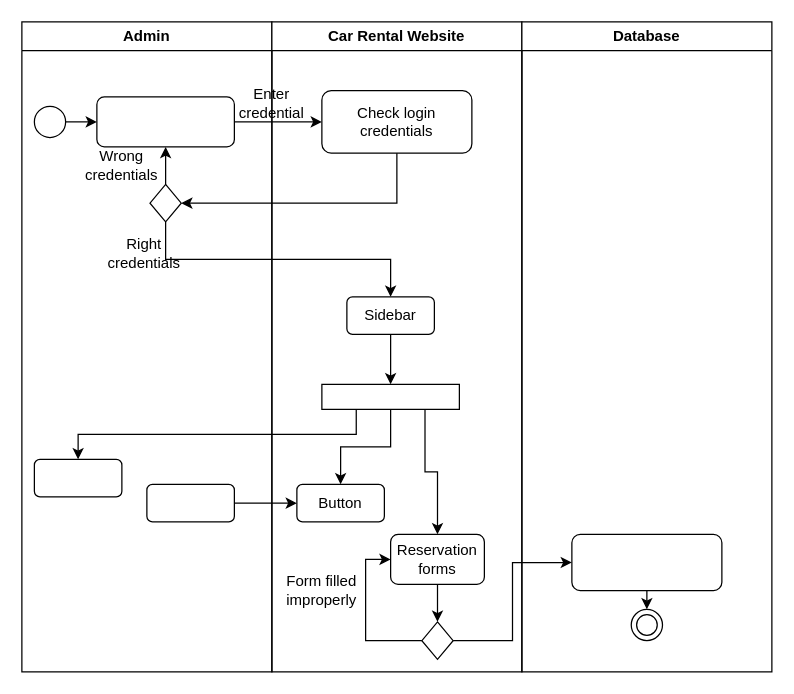
Image size: 794x694. Some labels were removed from this diagram. The centre of each missing label's shape, as x and y in pixels:
Delete: (190,502)
Login: (165,121)
Save/modify information: (646,562)
View: (77,477)
